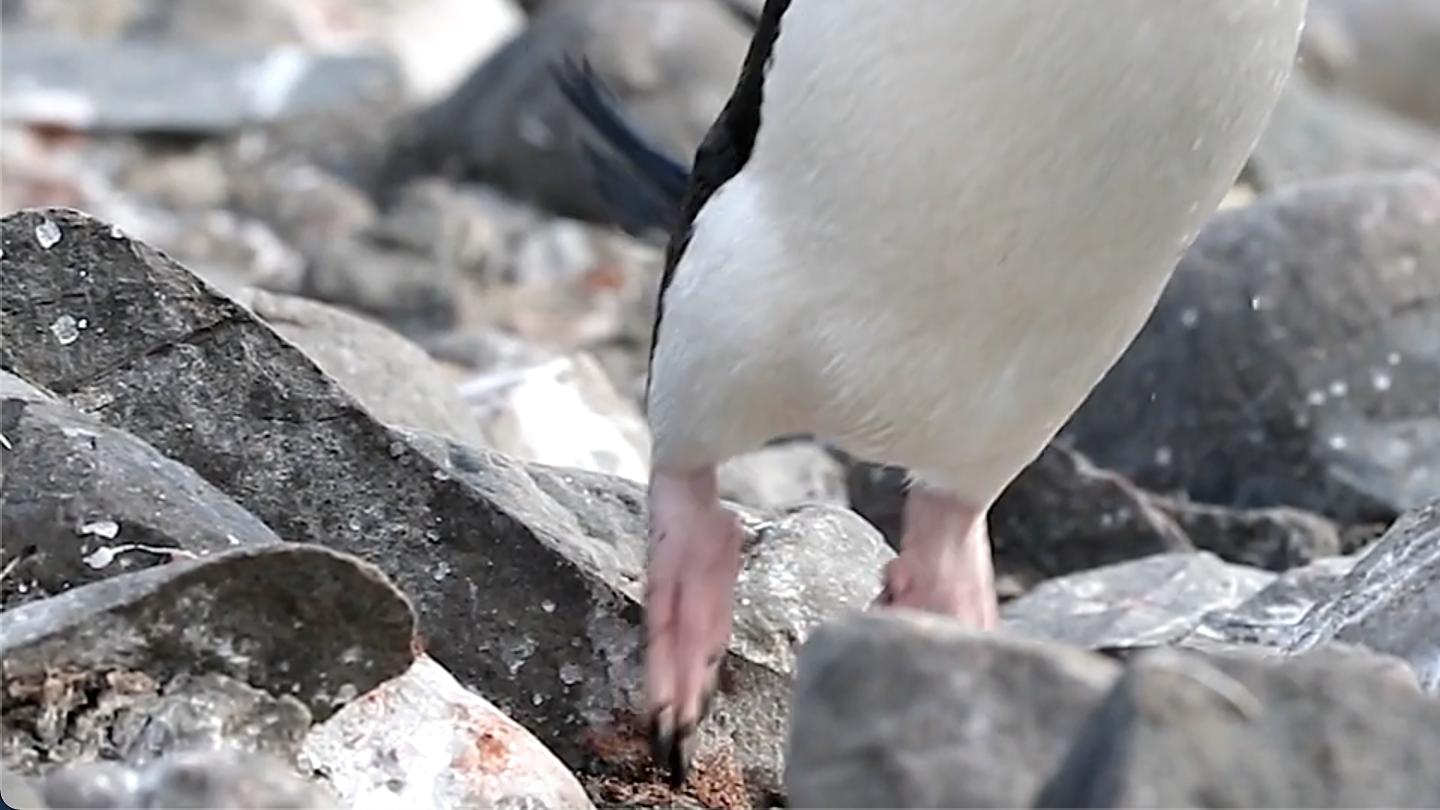Chinstrap Penguin: (386, 0, 1396, 735)
